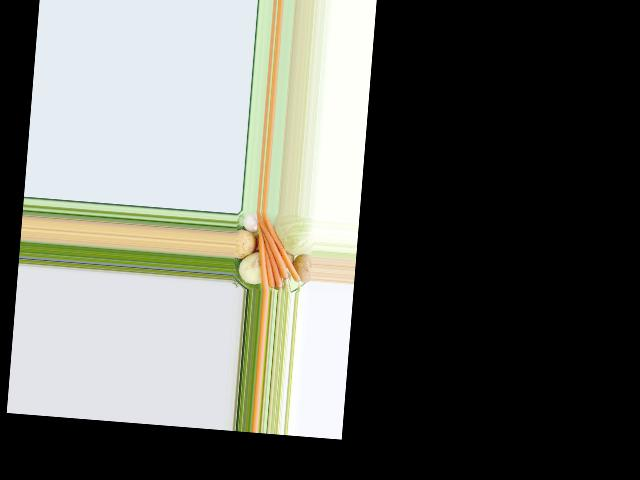carrot: (250, 214, 274, 290)
